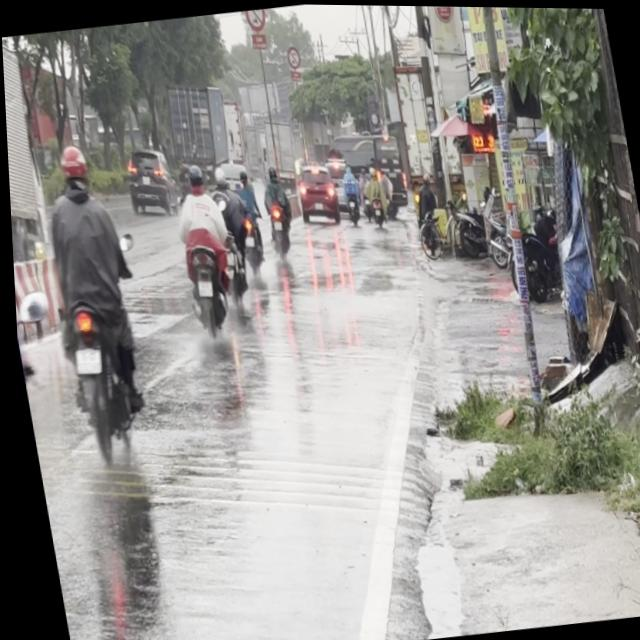helmet: (53, 141, 89, 192), (182, 161, 202, 191)
licenseplate: (21, 135, 155, 465), (162, 158, 238, 338)
nohelmet: (69, 345, 99, 374), (193, 277, 209, 296)
